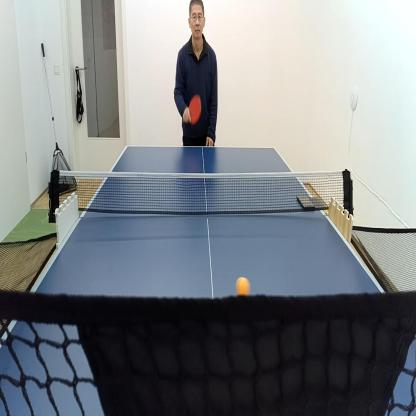Ball: (235, 273, 251, 300)
